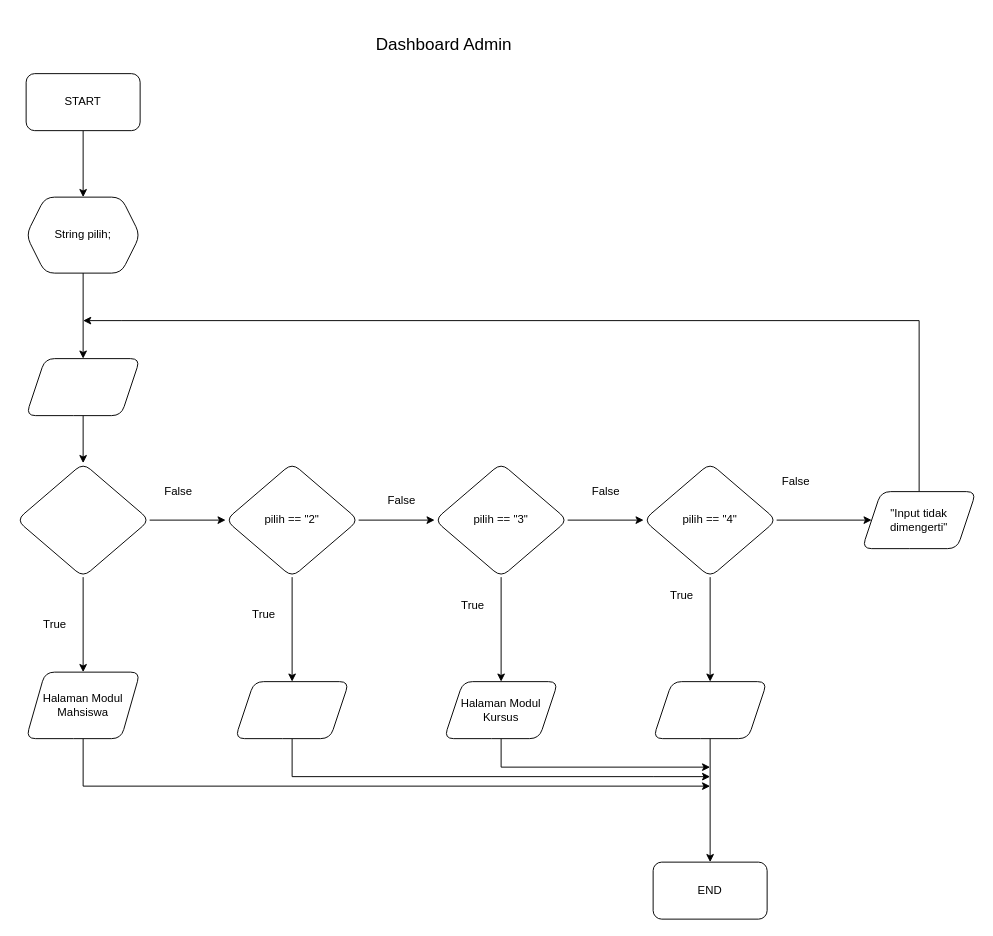
This 993x936 diagram has some shape labels left out. Each missing label, with the centre of its shape:
Halaman Login: [709,710]
Halaman Modul Dosen: [291,710]
pilih: [82,387]
pilih == "1": [83,519]
